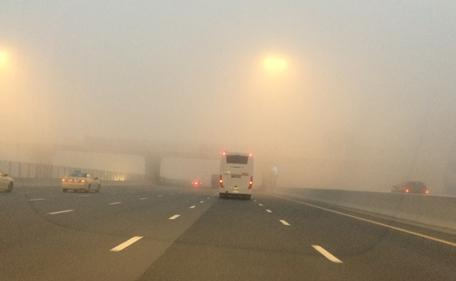bus: (217, 150, 257, 200)
car: (61, 169, 101, 194), (389, 180, 431, 203)
